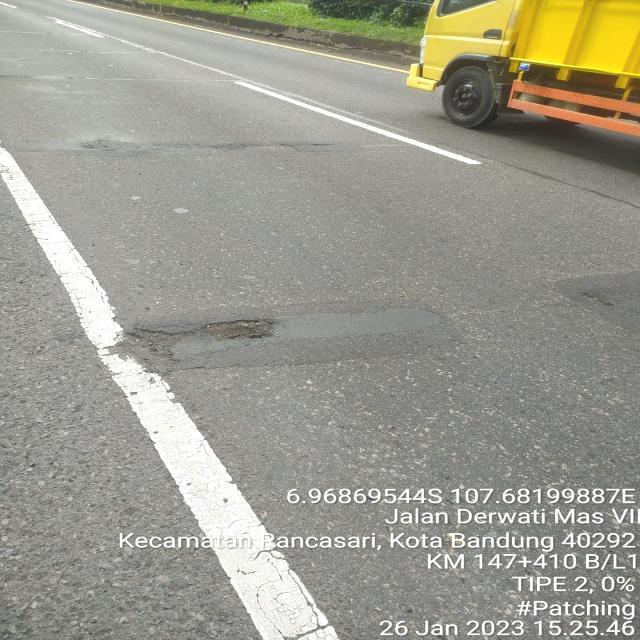Buraco: (101, 326, 197, 378), (198, 316, 278, 344)
